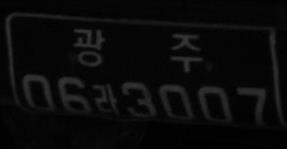0: (197, 85, 233, 125), (158, 83, 195, 121), (22, 72, 55, 113)
3: (121, 80, 156, 119)
6: (57, 76, 91, 115)
7: (236, 85, 266, 128)
광주_D: (73, 27, 203, 72)
라: (92, 82, 120, 115)
